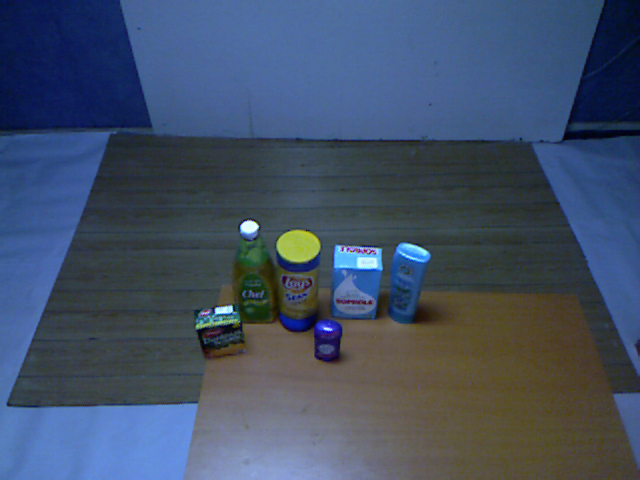aceite: (227, 216, 283, 333)
balsamo: (380, 238, 438, 327)
desodorante: (306, 316, 346, 368)
durazno: (190, 303, 248, 361)
leche: (325, 241, 387, 327)
papas: (268, 225, 325, 342)
